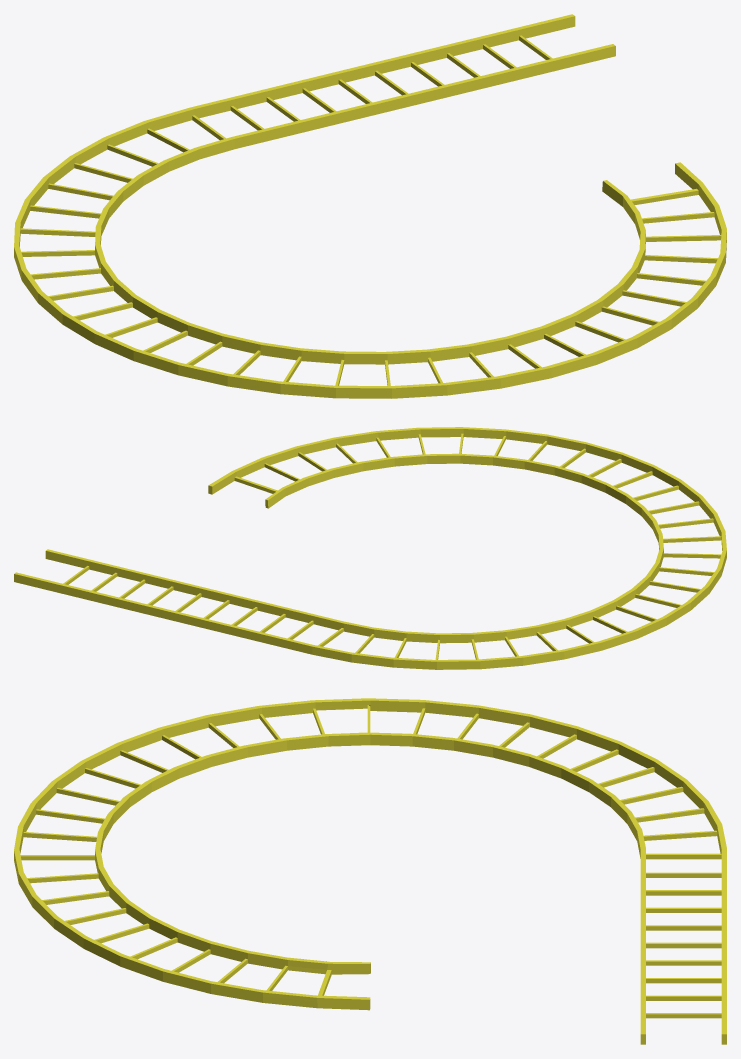
Rendered from bigcircle.fbx.
3 views of the same model, one above another, from view 1: azimuth 30°, elevation 25°; view 2: azimuth 150°, elevation 25°; view 3: azimuth 270°, elevation 25° (orthographic). The views are drawn at different scales.
Parts seen in each view (by area): view 1: Circle; view 2: Circle; view 3: Circle.
Part boxes in pixels (x1,y1,x2,y2): Circle: (14, 14, 726, 398); Circle: (14, 427, 726, 669); Circle: (14, 698, 726, 1044).
Size of the model in its own units: 589 by 8.5 by 528.
